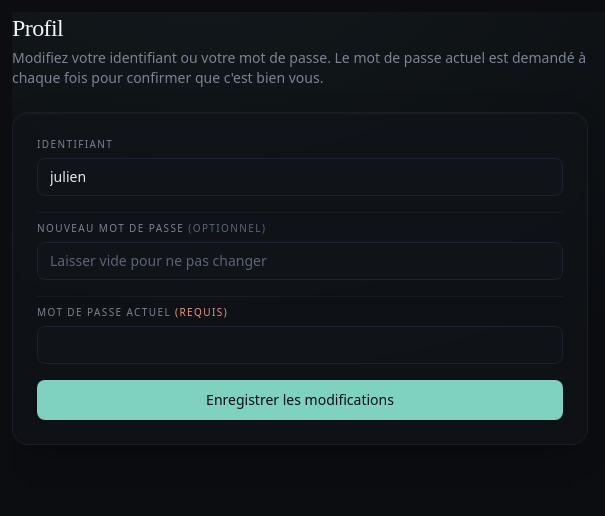
Profile › sends a rename PATCH when the username changed and current password is provided
The width and height of the screenshot is (605, 516).
Replace the text in the field with "newname" at (300, 177), box [37,158,563,196]
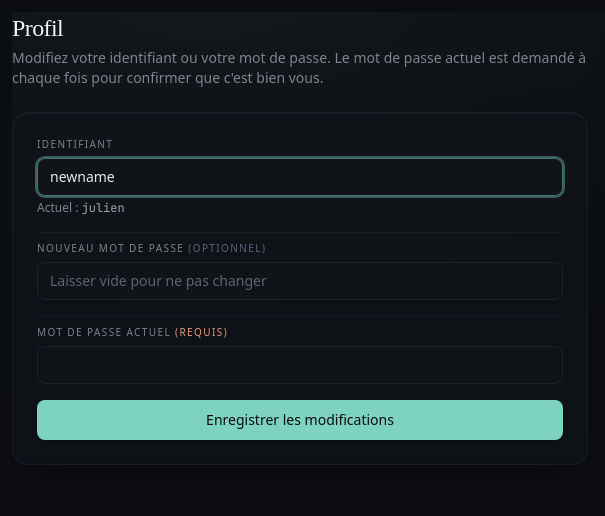
Type "existing" into the 2nd password field at (300, 365), box [37,346,563,384]
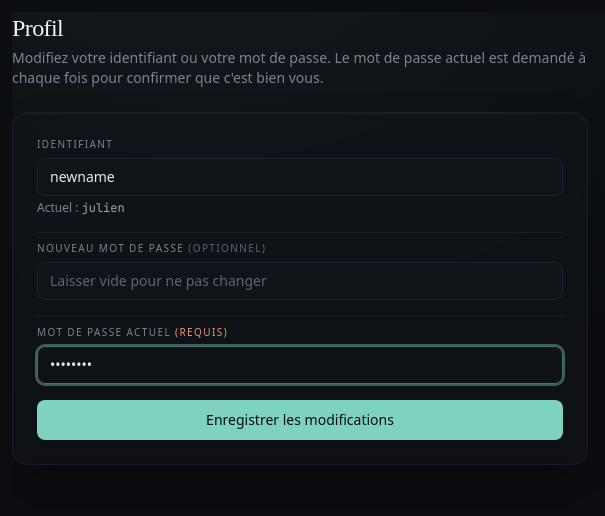
Click the button "Enregistrer les modifications" at (300, 420), box [37,400,563,440]
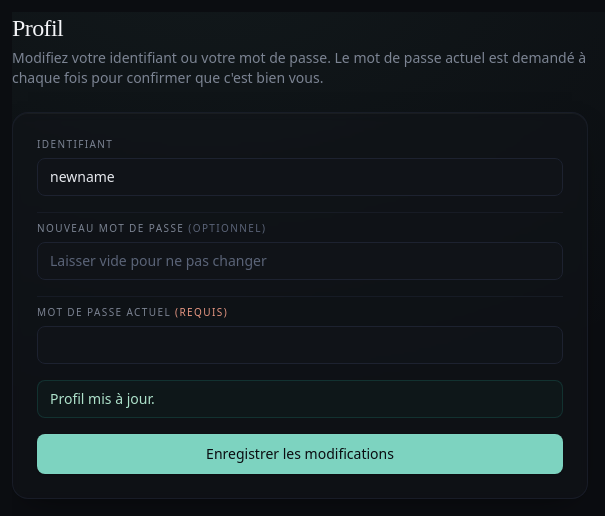
Check: the text "Profil mis à jour." is shown, box [37,380,563,418]
